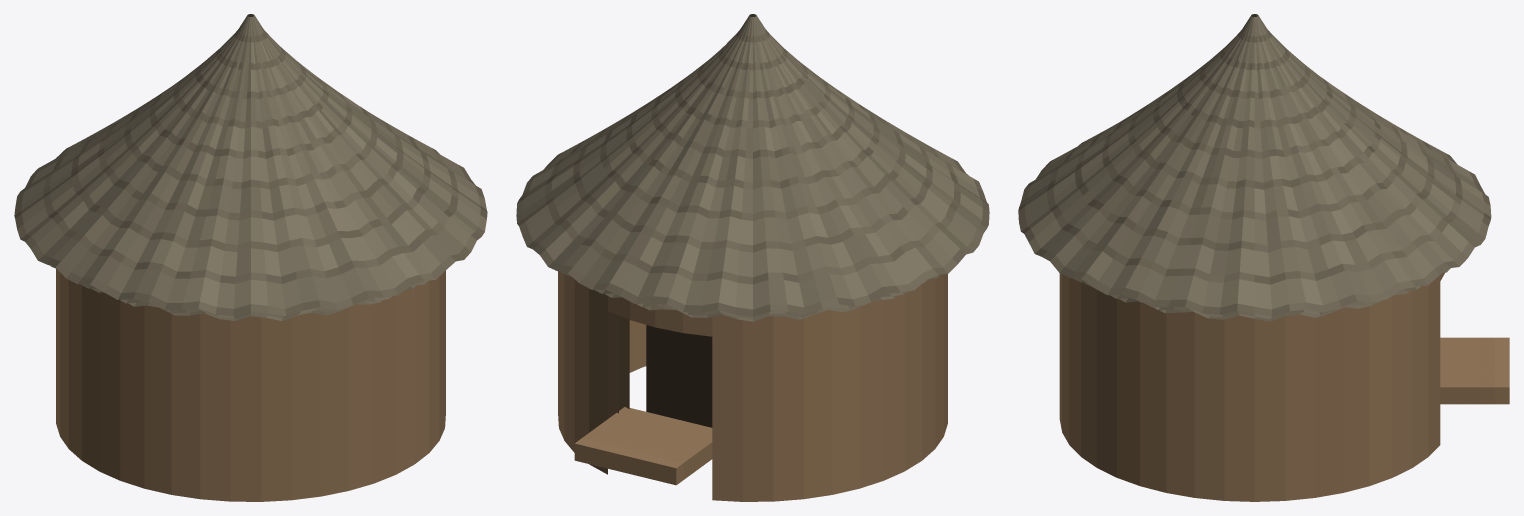
File: kit.glb
3 renders of one model, left to right at view 1: azimuth 30°, elevation 25°; view 2: azimuth 150°, elevation 25°; view 3: azimuth 270°, elevation 25°, orthographic.
Visible parts, largest first — view 1: Chounra2, Chounra1, Chounra0; view 2: Chounra2, Chounra0, Chounra1; view 3: Chounra2, Chounra0, Chounra1.
Boxes of the visible parts, left/top/right/bottom form: Chounra2: left=14, top=14, right=487, bottom=501; Chounra1: left=51, top=266, right=427, bottom=318; Chounra0: left=91, top=285, right=416, bottom=320; Chounra2: left=516, top=14, right=989, bottom=501; Chounra0: left=589, top=279, right=927, bottom=471; Chounra1: left=560, top=272, right=939, bottom=479; Chounra2: left=1018, top=14, right=1509, bottom=501; Chounra0: left=1084, top=283, right=1480, bottom=404; Chounra1: left=1072, top=268, right=1494, bottom=404.
Bounding box in the file's own units: 4.51 × 4.25 × 4.69.
